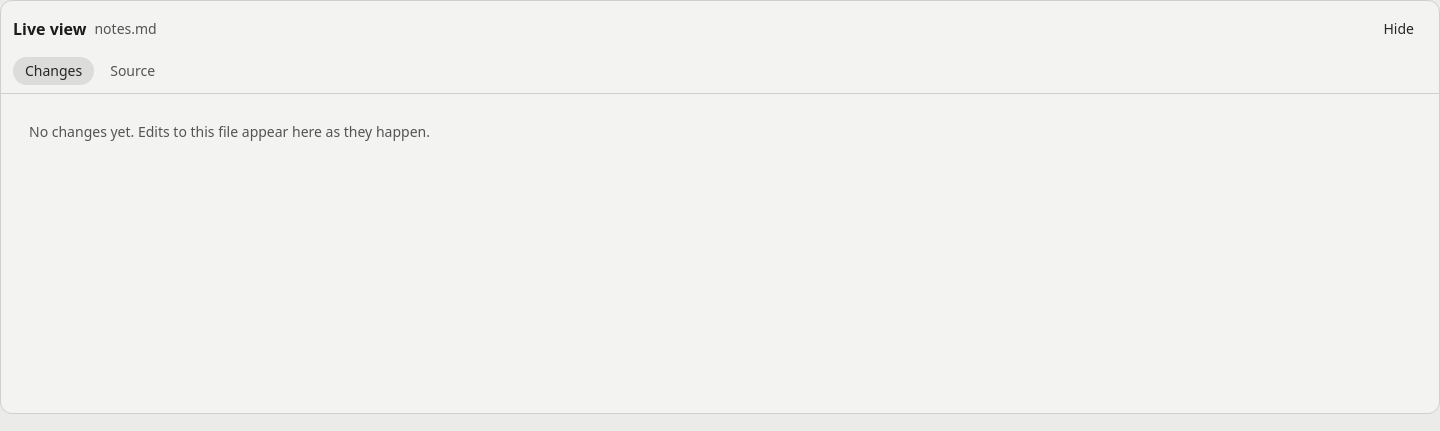
Test case: FilePreview › shows source
Click the tab "Source" at (133, 71), box [98,57,167,85]
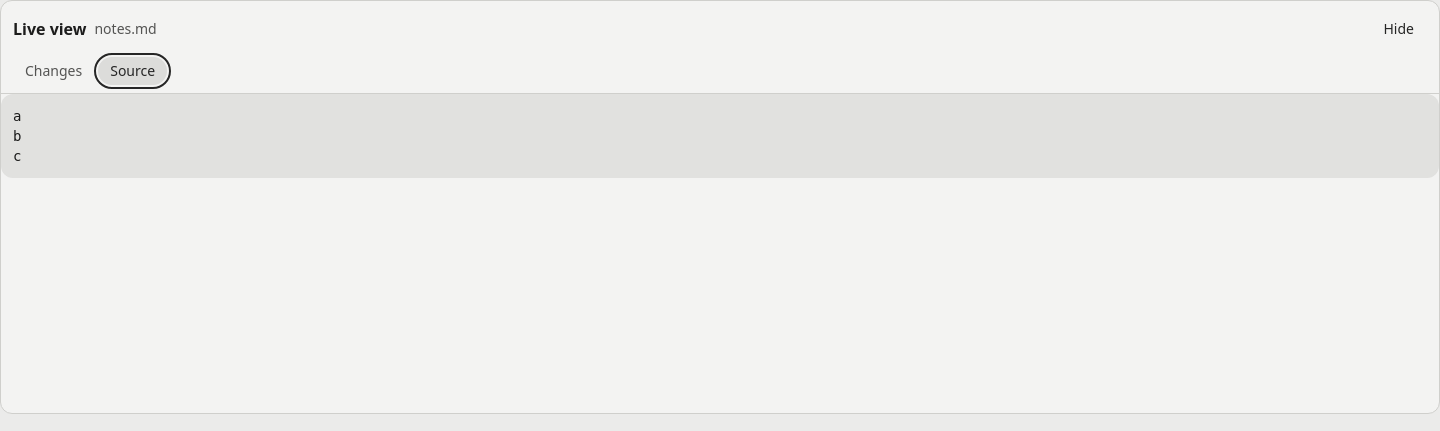
expect the text "a b c" is shown: met, box [1,94,1439,178]
